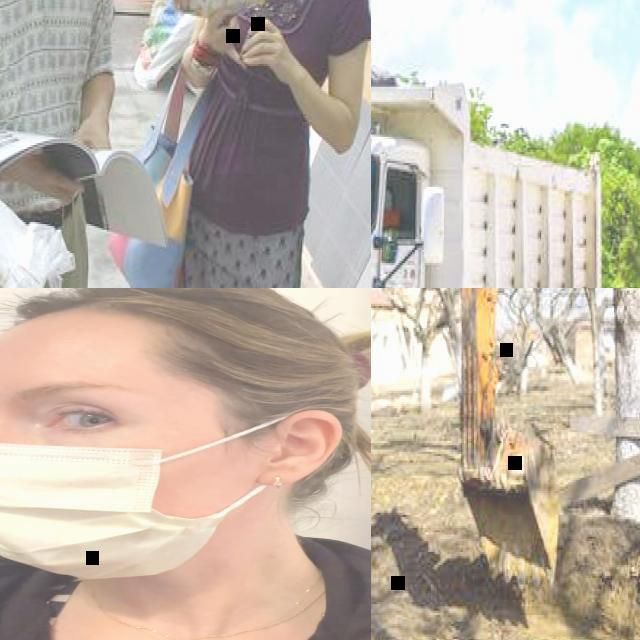machinery: (371, 288, 566, 640), (371, 62, 604, 288)
mask: (0, 405, 303, 579)
no_helmet: (0, 288, 371, 376)
no_vest: (191, 0, 350, 216), (0, 552, 371, 640), (0, 0, 112, 207)
person: (0, 288, 371, 640), (177, 0, 371, 288), (0, 0, 119, 288)
